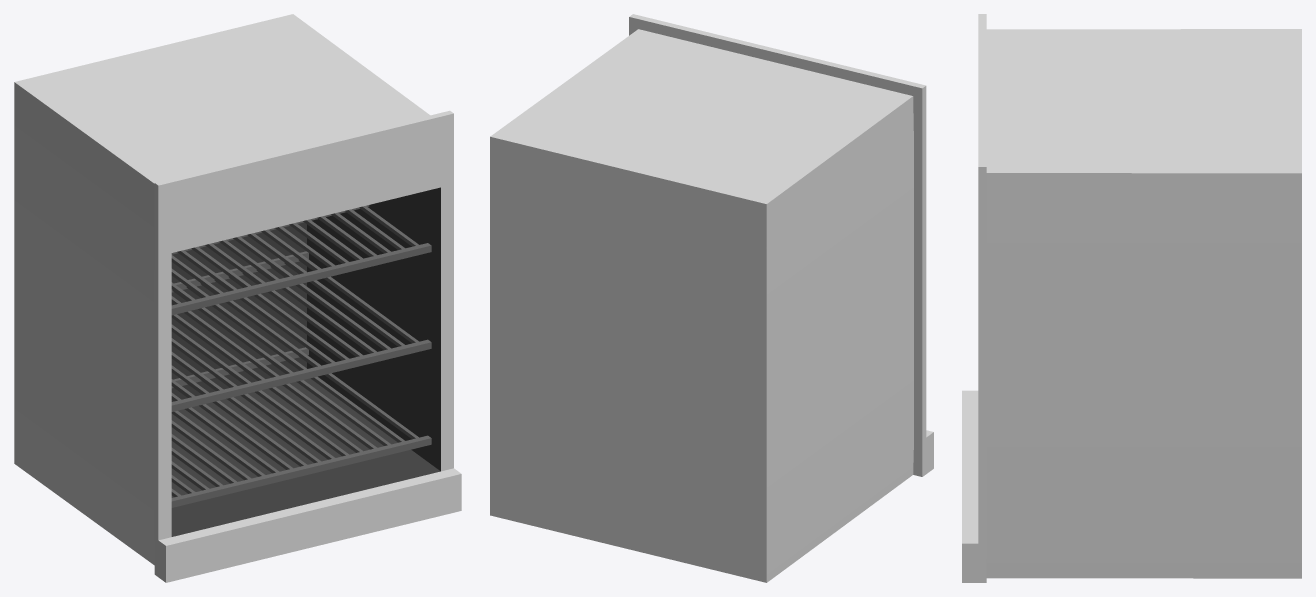
File: Dishwasher2_01.fbx
The picture shows the model from 3 angles, left to right: view 1: azimuth 30°, elevation 25°; view 2: azimuth 150°, elevation 25°; view 3: azimuth 270°, elevation 25°; orthographic projection. The views are drawn at different scales.
Visible parts, largest first — view 1: Dishwasher2_01; view 2: Dishwasher2_01; view 3: Dishwasher2_01.
Boxes of the visible parts, box(x1,y1,x2,y2) form: Dishwasher2_01: box(14, 14, 461, 582); Dishwasher2_01: box(490, 14, 933, 582); Dishwasher2_01: box(962, 14, 1301, 582).
Bounding box in the file's own units: 59.17 × 74.94 × 55.51.
